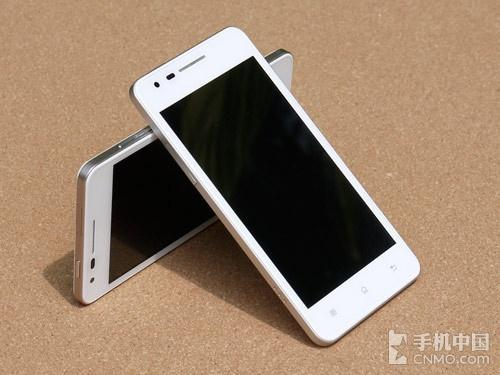phone: (141, 32, 422, 330), (71, 126, 201, 305)
